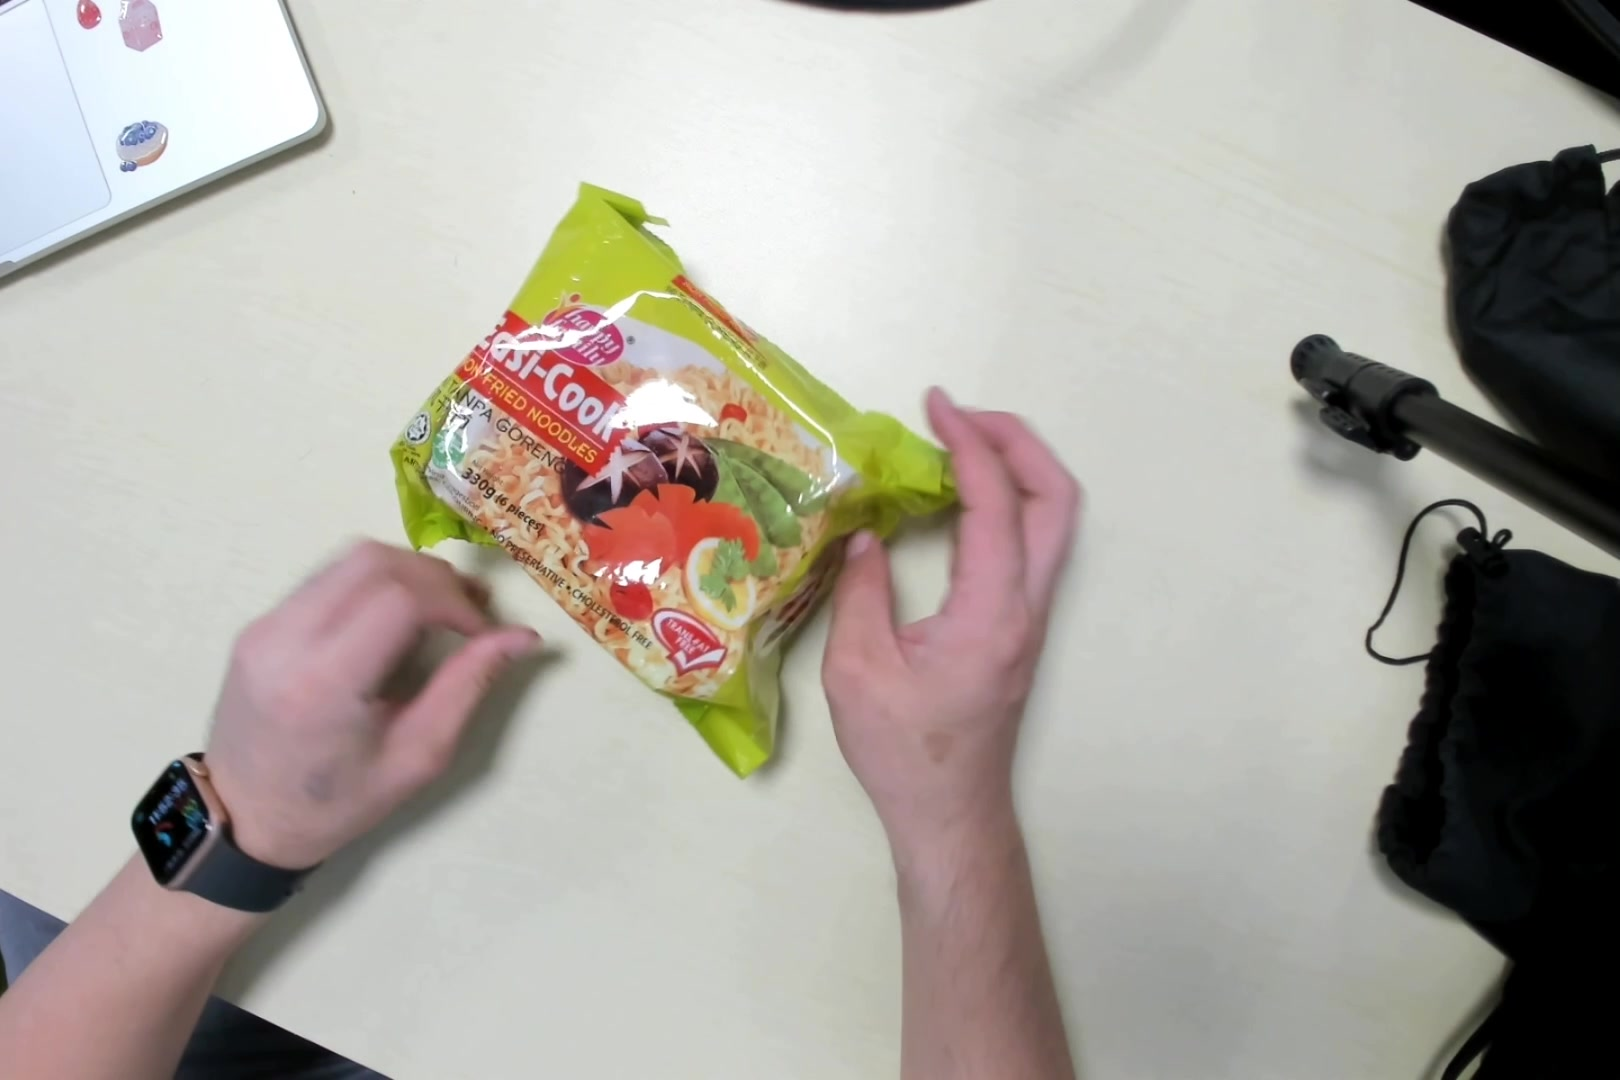OtherNoodles_300-399g_Halal_NonHealthy: (407, 188, 955, 775)
